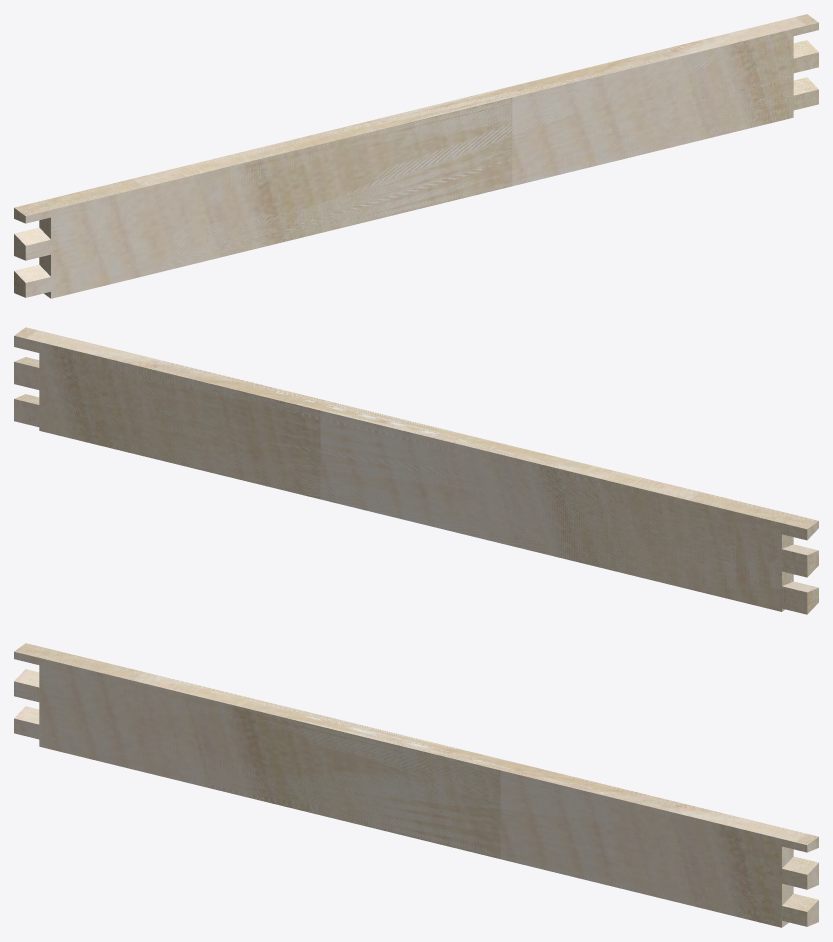
The model's file is original-82.obj.
3 views of the same model, one above another, from view 1: azimuth 30°, elevation 25°; view 2: azimuth 150°, elevation 25°; view 3: azimuth 330°, elevation 25° (orthographic).
Visible parts, largest first — view 1: Façadearriere1/Façadearriere/mesh11/mesh11-geometry#mesh11-geome; view 2: Façadearriere1/Façadearriere/mesh11/mesh11-geometry#mesh11-geome; view 3: Façadearriere1/Façadearriere/mesh11/mesh11-geometry#mesh11-geome.
Part boxes in pixels (x1,y1,x2,y2): Façadearriere1/Façadearriere/mesh11/mesh11-geometry#mesh11-geome: (14,14,818,298); Façadearriere1/Façadearriere/mesh11/mesh11-geometry#mesh11-geome: (14,327,818,614); Façadearriere1/Façadearriere/mesh11/mesh11-geometry#mesh11-geome: (14,643,818,927).
Bounding box in the file's own units: 0.3429 × 0.0367 × 0.00876.
